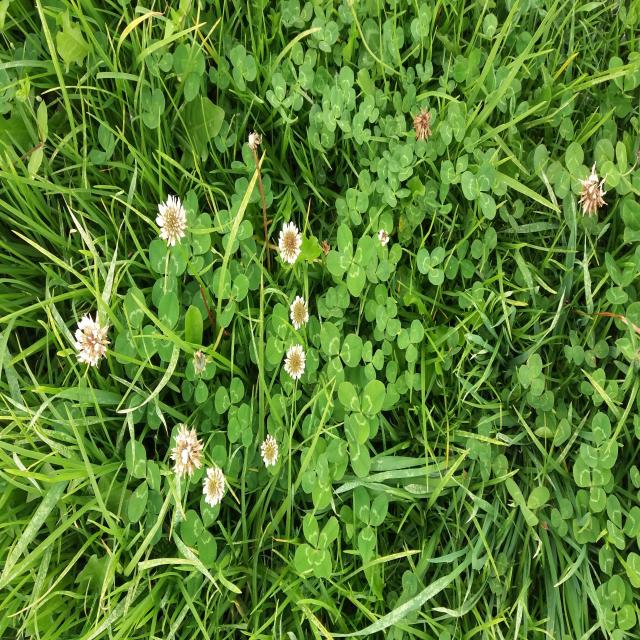Four Leaf Clover: (326, 223, 374, 297), (294, 513, 339, 580), (149, 240, 188, 307), (214, 201, 253, 255)
